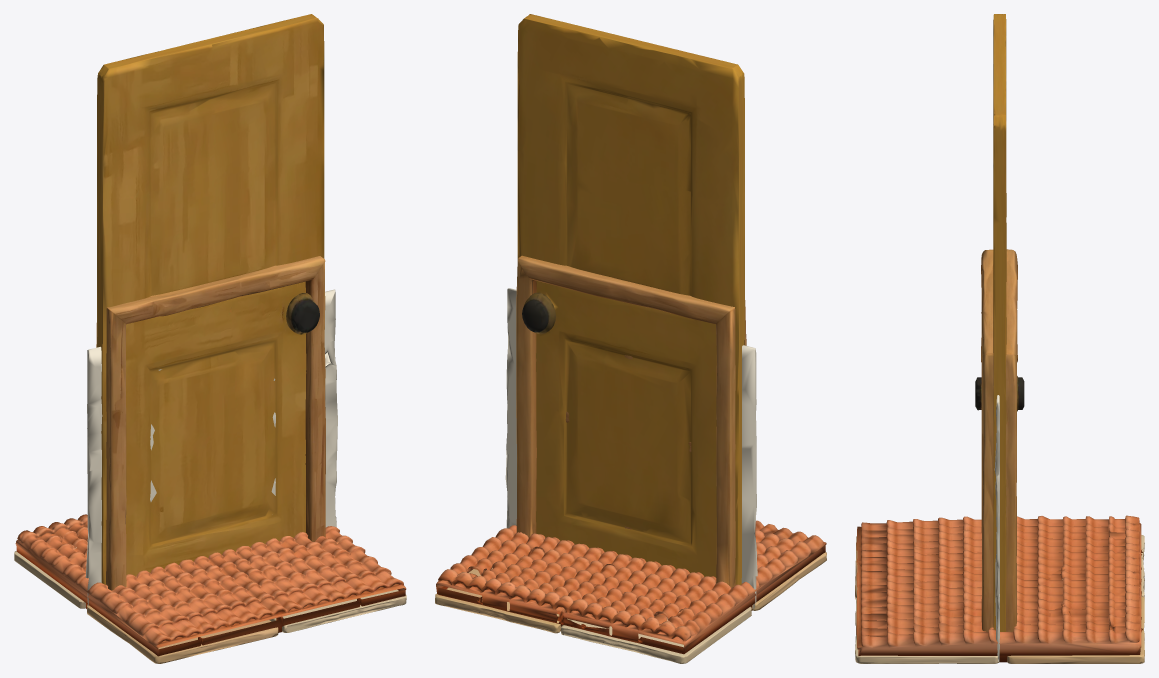
The model's file is maison.glb.
3 views of the same model, side by side, from view 1: azimuth 30°, elevation 25°; view 2: azimuth 150°, elevation 25°; view 3: azimuth 270°, elevation 25° (orthographic).
Visible parts, largest first — view 1: tripo_node_e525fdee-43a3-4d9d-a49f-8b4cf4647ba7, tripo_node_ab5f1ee2-a906-471f-86fb-aab38666c9b2, tripo_part_0, tripo_node_0cf1845c-a164-4ab8-bb52-f4915d3d7e38, tripo_node_229b19cc-f958-4fba-badd-d423dac4114f; view 2: tripo_node_e525fdee-43a3-4d9d-a49f-8b4cf4647ba7, tripo_node_ab5f1ee2-a906-471f-86fb-aab38666c9b2, tripo_part_0, tripo_node_0cf1845c-a164-4ab8-bb52-f4915d3d7e38, tripo_node_229b19cc-f958-4fba-badd-d423dac4114f; view 3: tripo_node_ab5f1ee2-a906-471f-86fb-aab38666c9b2, tripo_part_0, tripo_node_e525fdee-43a3-4d9d-a49f-8b4cf4647ba7, tripo_node_229b19cc-f958-4fba-badd-d423dac4114f, tripo_node_0cf1845c-a164-4ab8-bb52-f4915d3d7e38.
Boxes of the visible parts, bbox=[...] form: tripo_node_e525fdee-43a3-4d9d-a49f-8b4cf4647ba7: bbox=[97, 14, 324, 584]; tripo_node_ab5f1ee2-a906-471f-86fb-aab38666c9b2: bbox=[15, 514, 406, 656]; tripo_part_0: bbox=[96, 256, 325, 590]; tripo_node_0cf1845c-a164-4ab8-bb52-f4915d3d7e38: bbox=[85, 289, 337, 605]; tripo_node_229b19cc-f958-4fba-badd-d423dac4114f: bbox=[14, 547, 406, 663]; tripo_node_e525fdee-43a3-4d9d-a49f-8b4cf4647ba7: bbox=[517, 14, 744, 584]; tripo_node_ab5f1ee2-a906-471f-86fb-aab38666c9b2: bbox=[436, 520, 826, 654]; tripo_part_0: bbox=[516, 255, 746, 588]; tripo_node_0cf1845c-a164-4ab8-bb52-f4915d3d7e38: bbox=[505, 288, 757, 608]; tripo_node_229b19cc-f958-4fba-badd-d423dac4114f: bbox=[435, 552, 826, 663]; tripo_node_ab5f1ee2-a906-471f-86fb-aab38666c9b2: bbox=[856, 515, 1142, 662]; tripo_part_0: bbox=[981, 249, 1017, 631]; tripo_node_e525fdee-43a3-4d9d-a49f-8b4cf4647ba7: bbox=[975, 14, 1024, 631]; tripo_node_229b19cc-f958-4fba-badd-d423dac4114f: bbox=[855, 535, 1144, 663]; tripo_node_0cf1845c-a164-4ab8-bb52-f4915d3d7e38: bbox=[994, 395, 999, 661].
Size of the model in its own units: 1 by 2.05 by 1.
10 materials, 9 textured.
